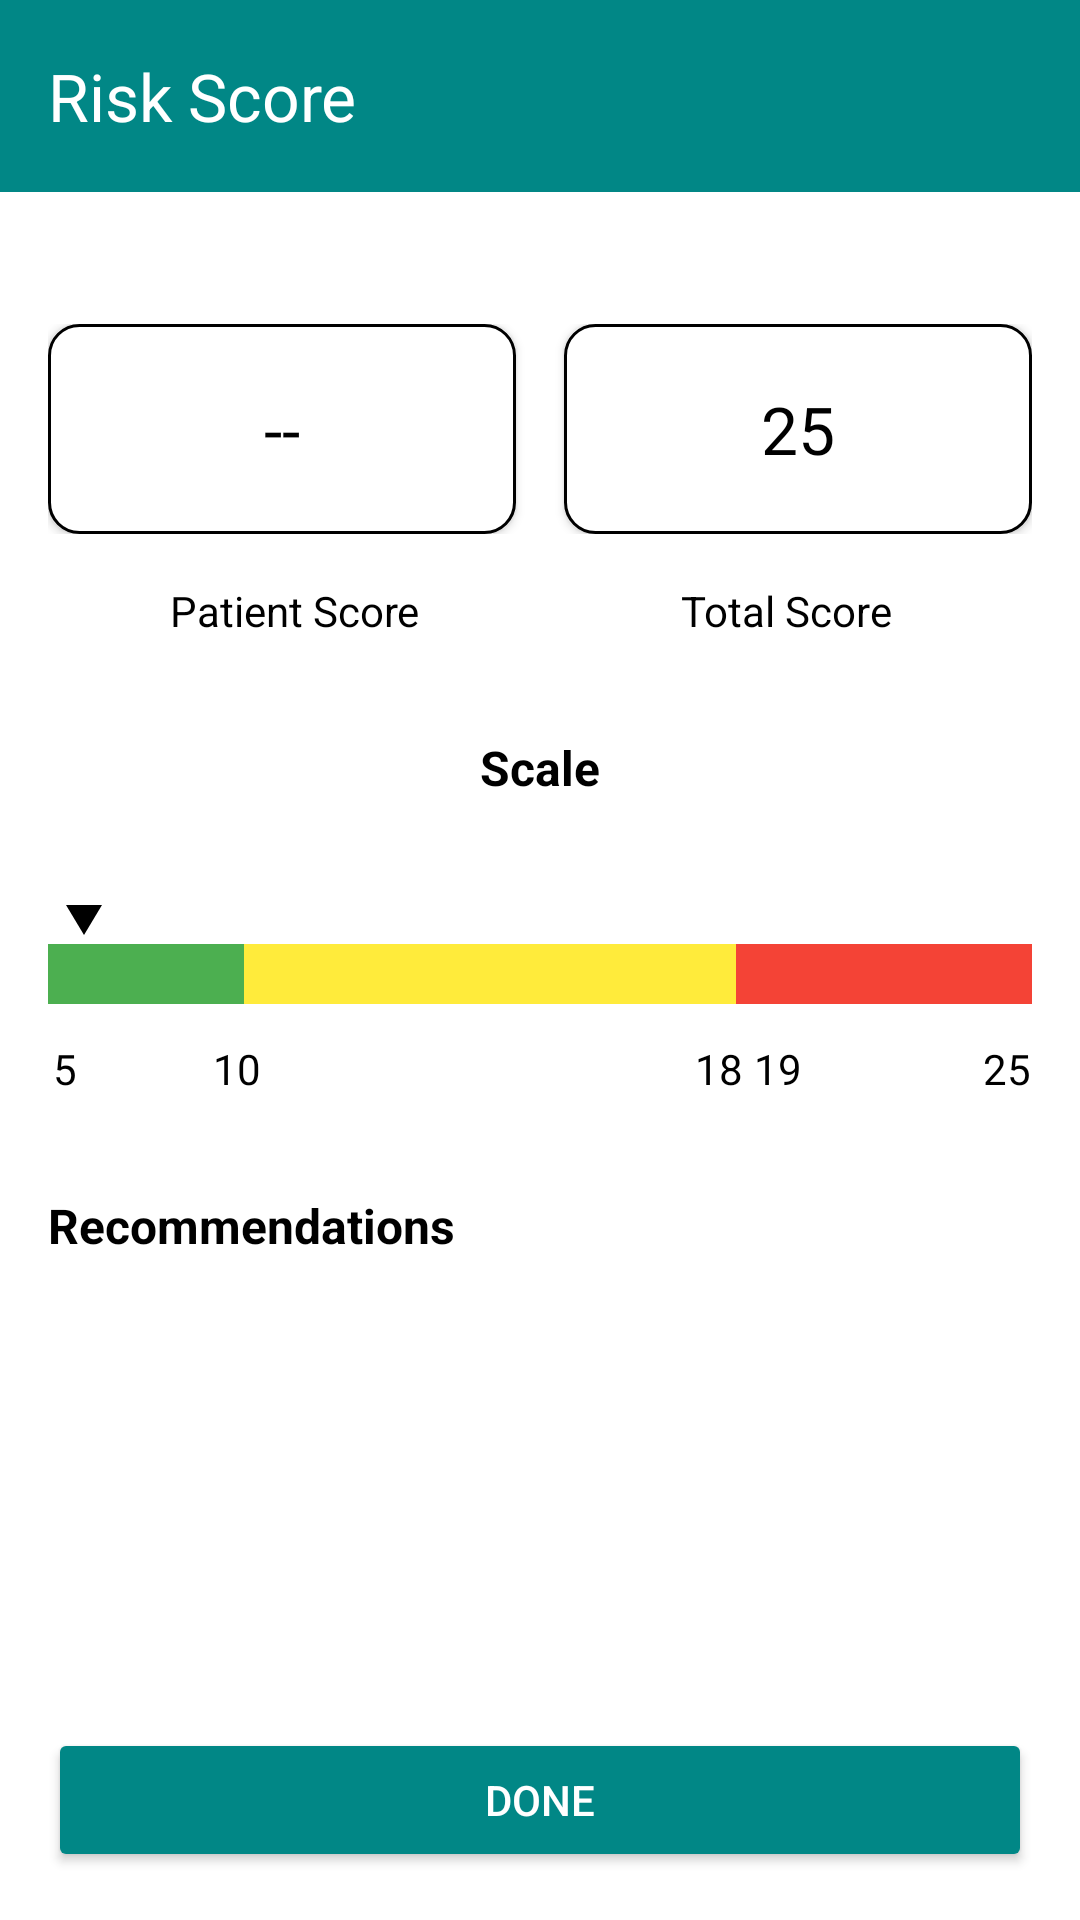

Screen size 1080x1920. Icon name, then its center in pixels as point (x, y):
Arrow: point (84, 920)
